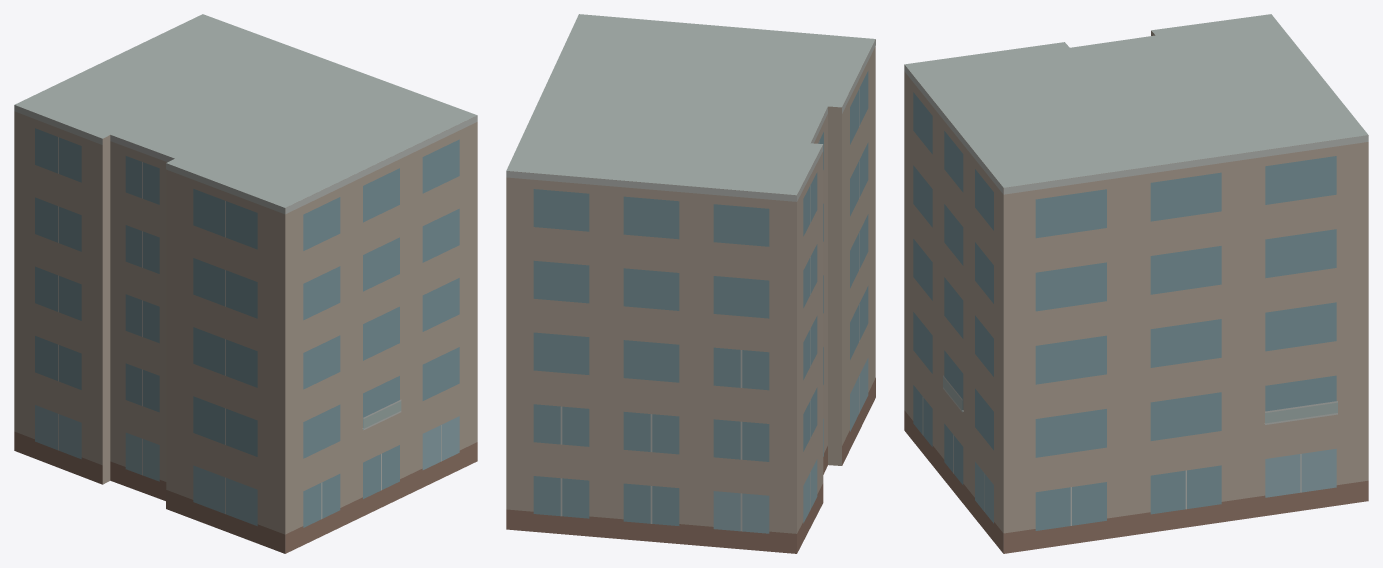
File: survey-upis-32737988.glb
3 renders of one model, left to right at view 1: azimuth 30°, elevation 25°; view 2: azimuth 150°, elevation 25°; view 3: azimuth 270°, elevation 25°, orthographic. The views are drawn at different scales.
Visible parts, largest first — view 1: survey-upis-32737988.tmp; view 2: survey-upis-32737988.tmp; view 3: survey-upis-32737988.tmp.
Boxes of the visible parts, bbox=[...] form: survey-upis-32737988.tmp: bbox=[14, 14, 477, 553]; survey-upis-32737988.tmp: bbox=[506, 14, 875, 553]; survey-upis-32737988.tmp: bbox=[904, 14, 1368, 553].
Bounding box in the file's own units: 13.41 × 13.15 × 15.13.
